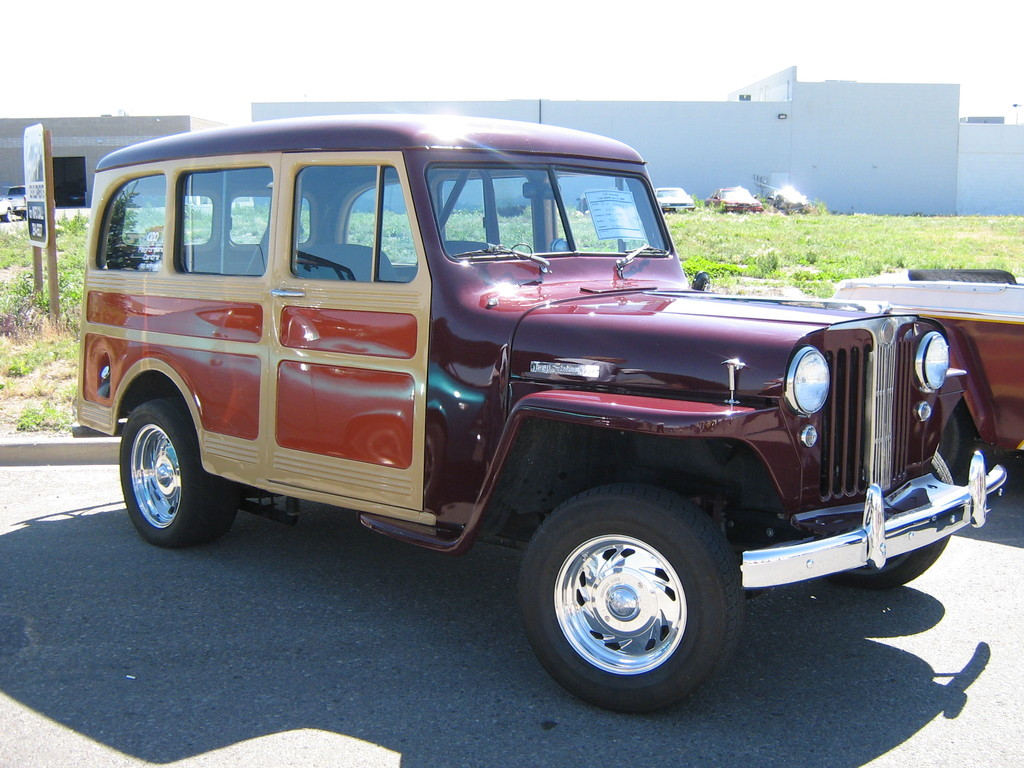Car: (65, 111, 1020, 706), (706, 190, 762, 210), (655, 186, 689, 210)
